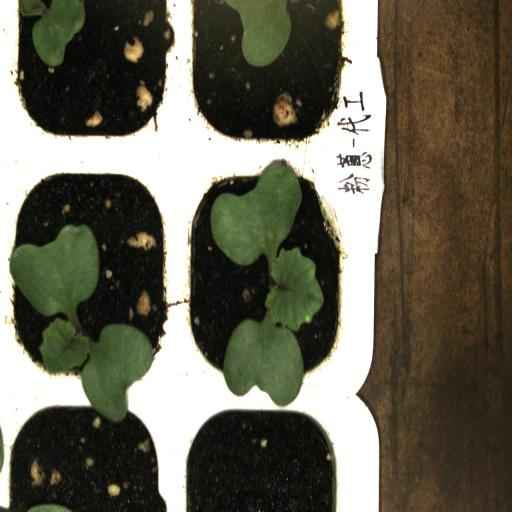seedling: (180, 158, 350, 408), (6, 152, 182, 390)
